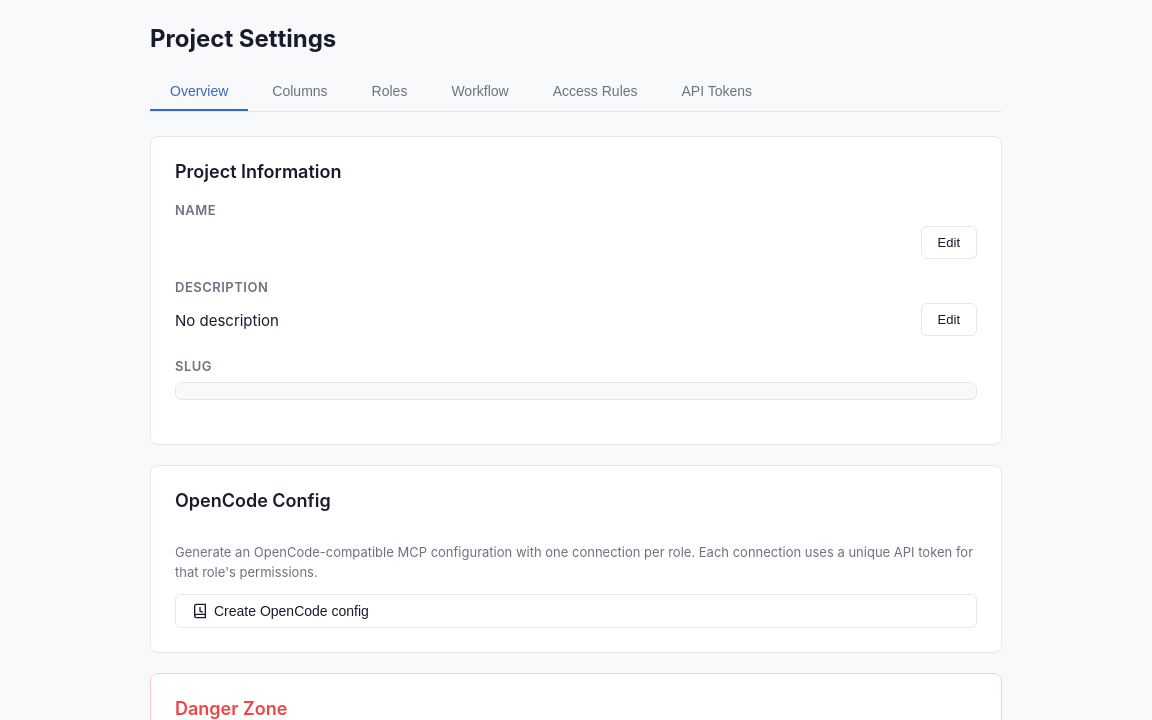
Test: Settings › shows editing mode for project description
Click the button with class "edit-btn" in the row of "No description".
click(949, 320)  # box [921, 303, 977, 336]
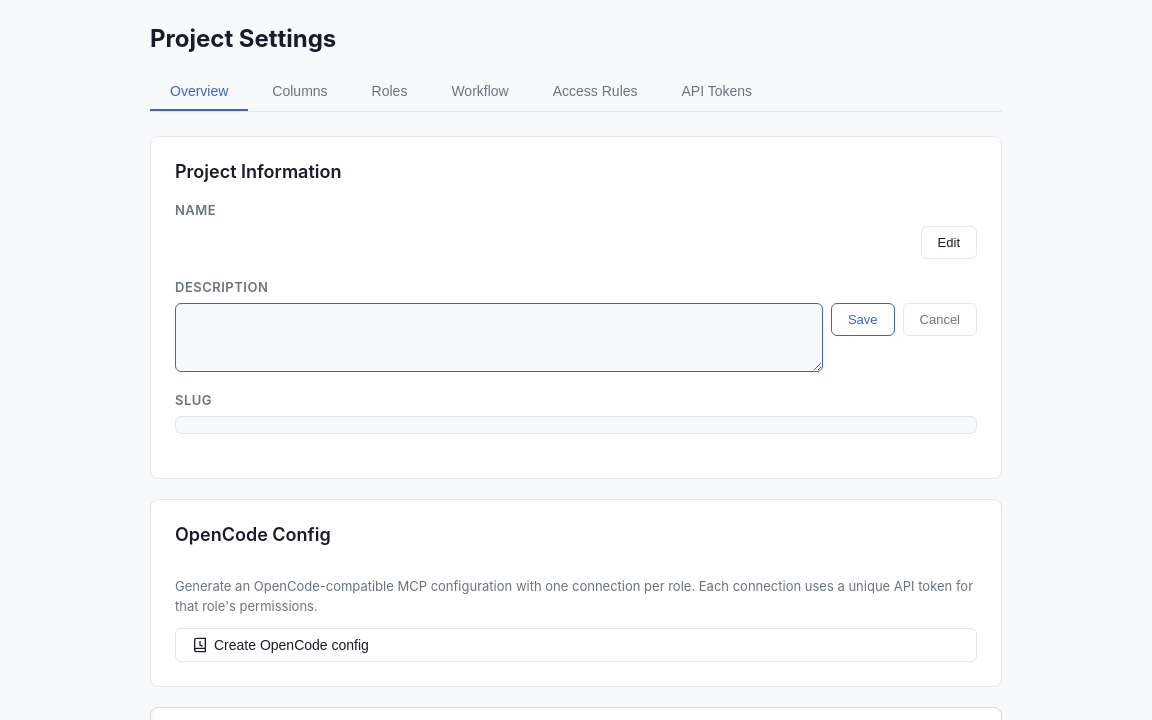
expect the text box is shown: met, box [175, 303, 823, 372]
expect the button with class "save-btn" is shown: met, box [831, 303, 894, 336]
